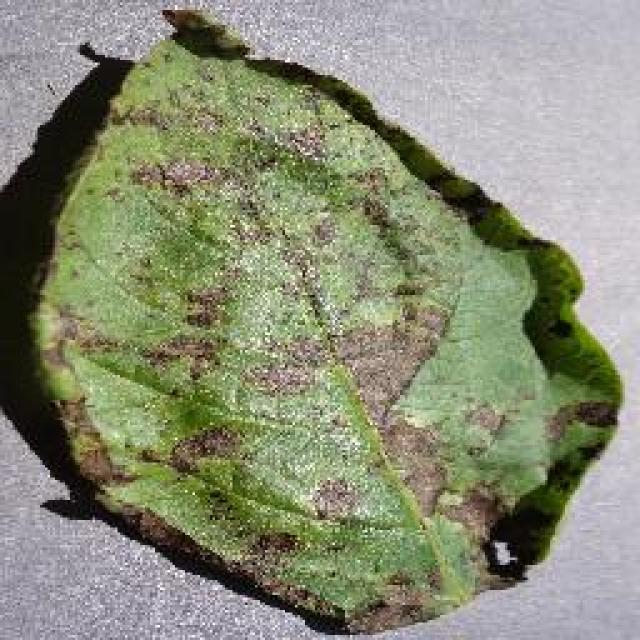Potato___Early_blight: (5, 2, 635, 640)
